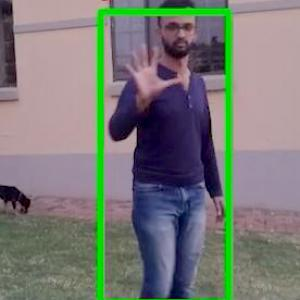follow_hand: (120, 37, 182, 110)
